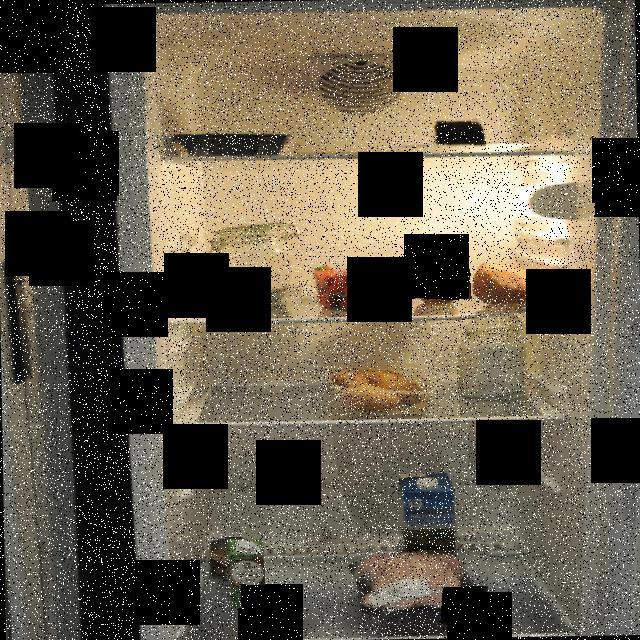Berries strawberries/blueberries: (310, 259, 398, 313)
Cheese: (429, 118, 486, 148)
Chicken: (346, 550, 492, 630)
Corn ear: (209, 536, 256, 579)
Cream: (226, 536, 265, 608)
Flour: (196, 219, 306, 313)
Potato: (326, 360, 439, 414)
Sugar: (456, 314, 530, 403)
Sweet Potato: (466, 262, 544, 312), (413, 272, 459, 304)
